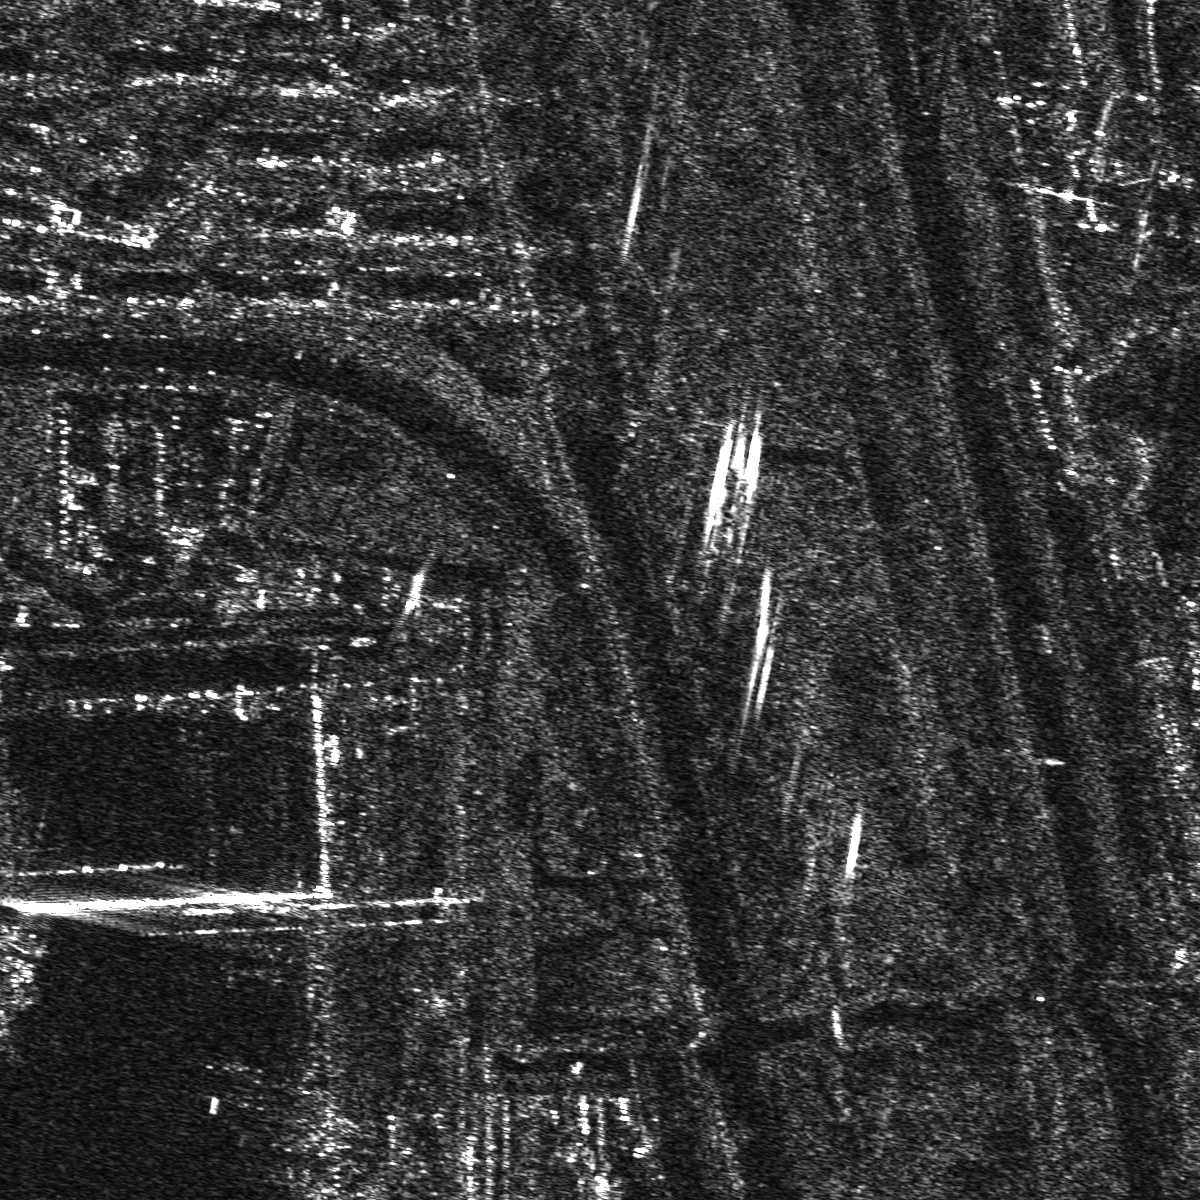A220: (205, 1048, 269, 1113)
